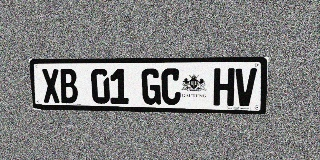0: (90, 69, 110, 104)
1: (109, 69, 129, 104)
B: (59, 69, 78, 103)
C: (161, 68, 181, 105)
G: (141, 68, 161, 105)
H: (213, 68, 235, 106)
V: (234, 68, 257, 106)
X: (41, 69, 61, 103)
